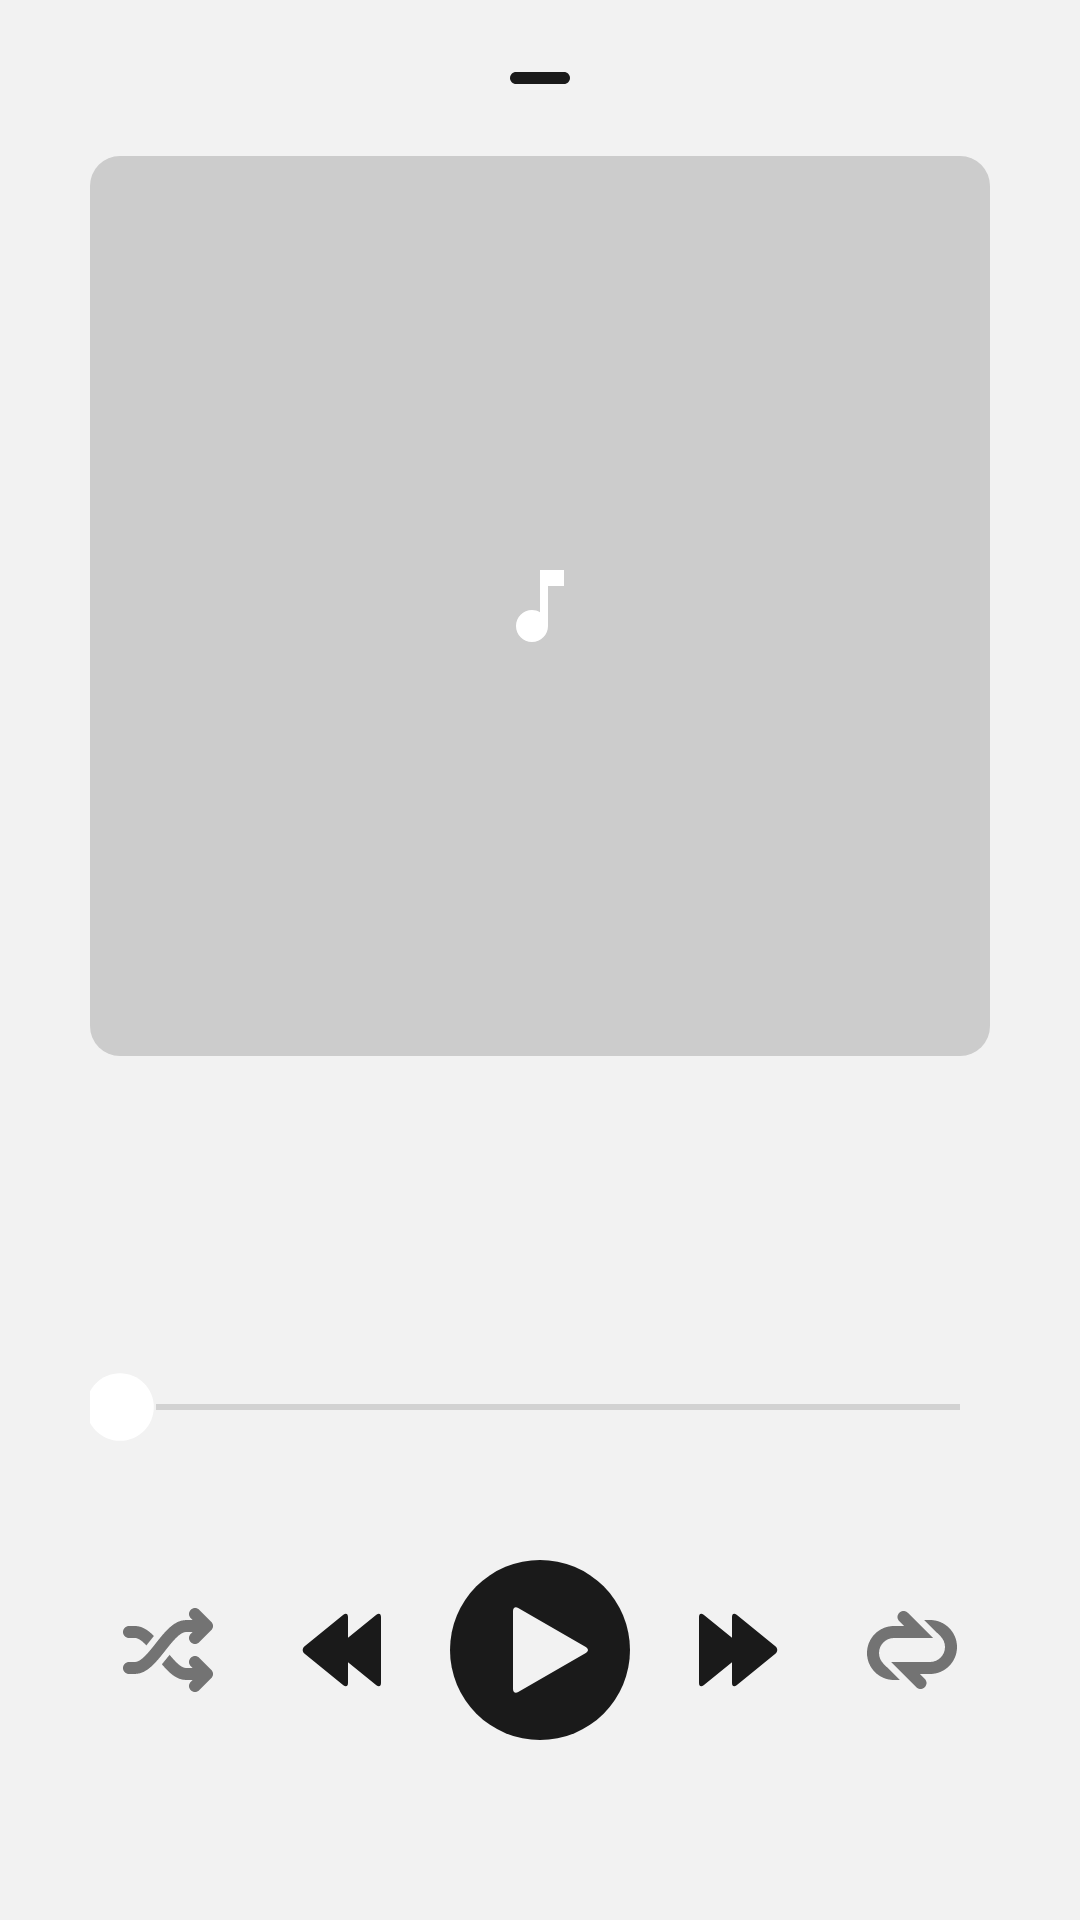

Where to tap for icons on this 1080*1920 app screen, as point (x, y):
next: point (738, 1650)
play: point (540, 1650)
previous: point (341, 1650)
random: point (168, 1650)
repeat: point (912, 1650)
subtract: point (540, 78)
